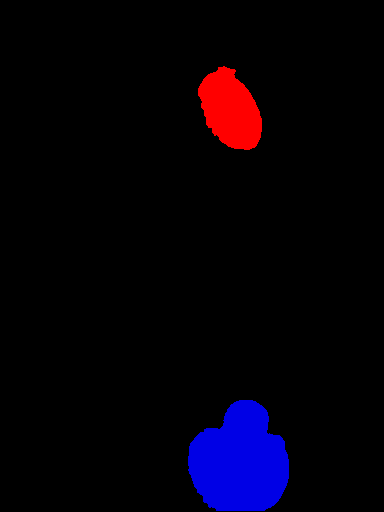cup: (189, 397, 292, 511)
speaker: (197, 65, 264, 153)
